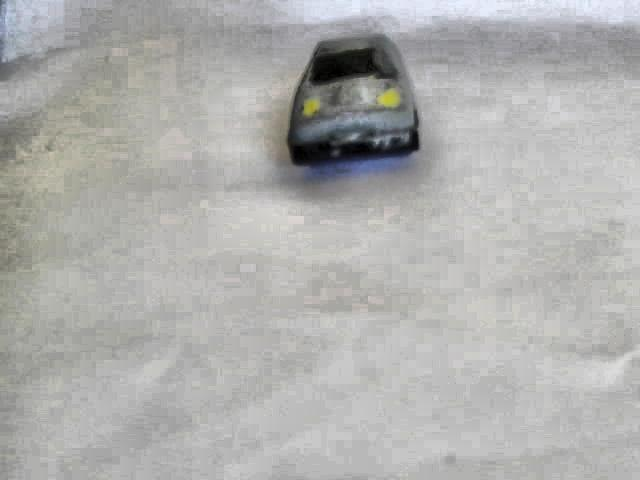normal_car: (288, 36, 418, 163)
